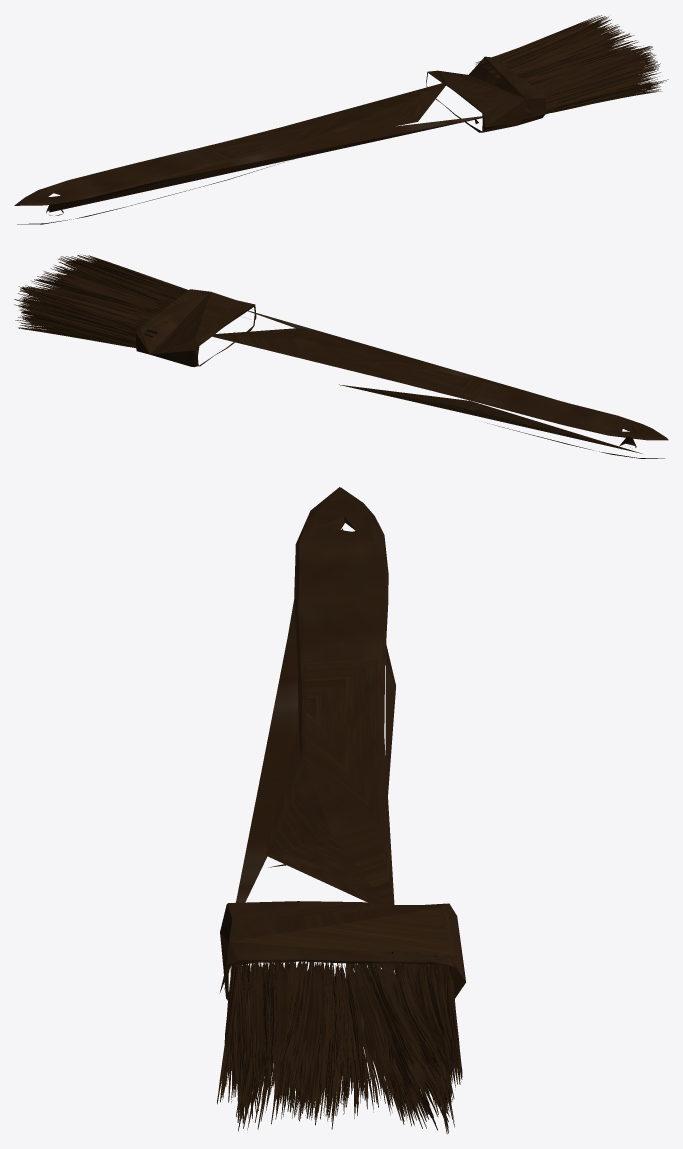
Rendered from paint_supplies_brush_a03.glb.
3 views of the same model, one above another, from view 1: azimuth 30°, elevation 25°; view 2: azimuth 150°, elevation 25°; view 3: azimuth 270°, elevation 25° (orthographic). The views are drawn at different scales.
Parts seen in each view (by area): view 1: geometry_0; view 2: geometry_0; view 3: geometry_0.
Part boxes in pixels (x1,y1,x2,y2): geometry_0: (14, 15, 668, 224); geometry_0: (14, 255, 668, 458); geometry_0: (217, 487, 465, 1134).
Bounding box in the file's own units: 0.42 × 0.0267 × 0.0725.
Materials: 1 (1 with a texture image).
